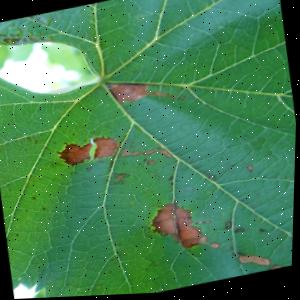Folha: (0, 0, 300, 300)
Fungo: (53, 124, 173, 184), (147, 197, 222, 263), (104, 71, 185, 117), (54, 133, 121, 171), (0, 18, 50, 54), (117, 140, 173, 172), (237, 249, 291, 278), (105, 78, 151, 108), (237, 252, 271, 273), (85, 138, 100, 162), (141, 149, 160, 158), (158, 149, 171, 161), (195, 221, 212, 229), (113, 173, 130, 181), (269, 266, 291, 272), (233, 229, 246, 237), (223, 223, 233, 232), (245, 166, 254, 175), (258, 230, 267, 236), (208, 177, 216, 182)
